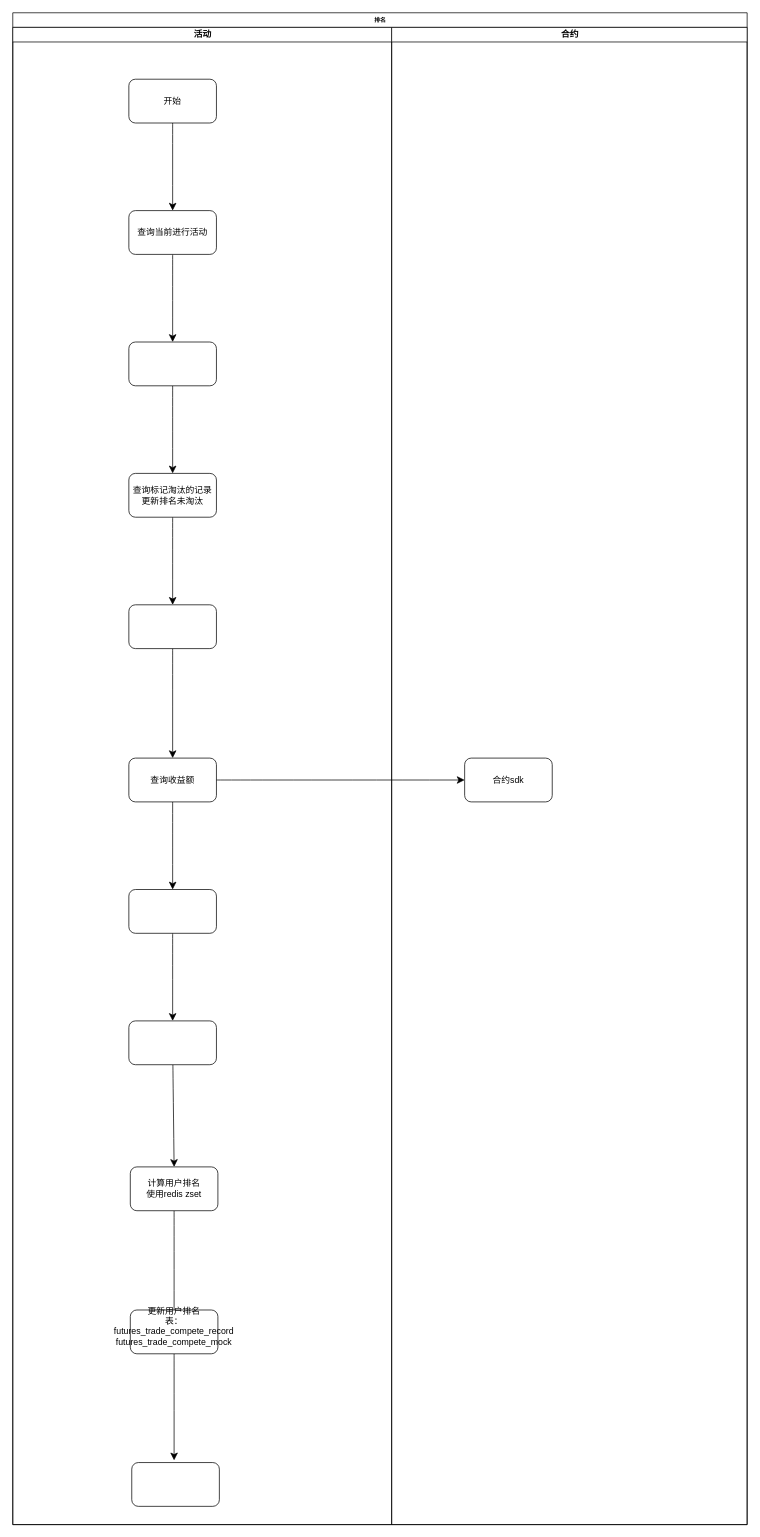
The diagram is 760 pixels wide and 1537 high, and some of its shapes have lost their labels. The shapes that lost their labels are listed below. From the top down, each one's centre as x and y in pixels, then its label:
At (x=172, y=363): "查询活动参赛记录 未删除 报名成功 排名不是淘汰".
At (x=172, y=626): "查询未被标记的记录".
At (x=172, y=911): "真实用户排名".
At (x=172, y=1042): "假数据排名初始化".
At (x=175, y=1484): "结束".
